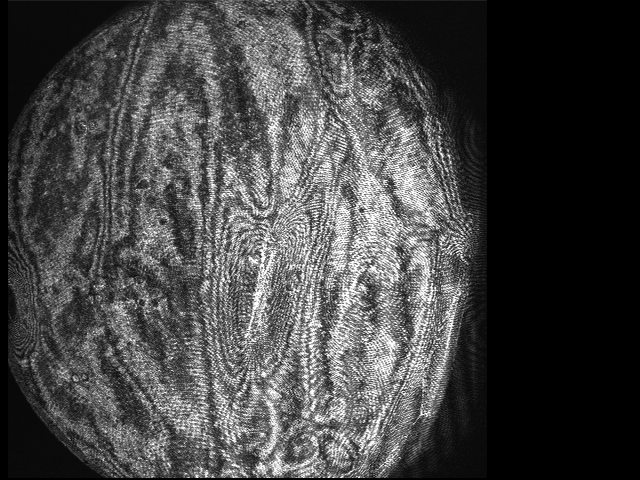plume: (199, 216, 312, 383)
